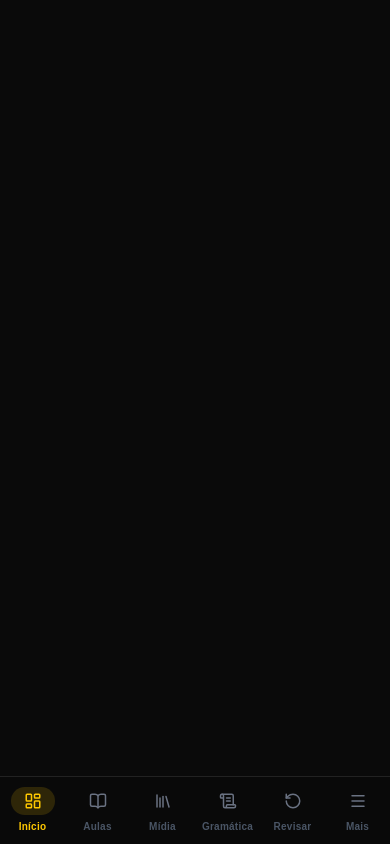
Test: MobileNav › clicar em Mais abre o menu com Trilha
Click the button "Mais": (358, 810) [325, 777, 389, 843]
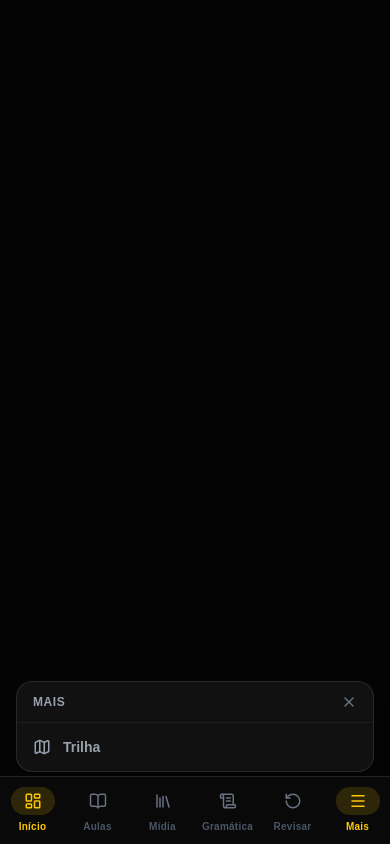
Now the text "Trilha" is shown, box [63, 737, 100, 757]
